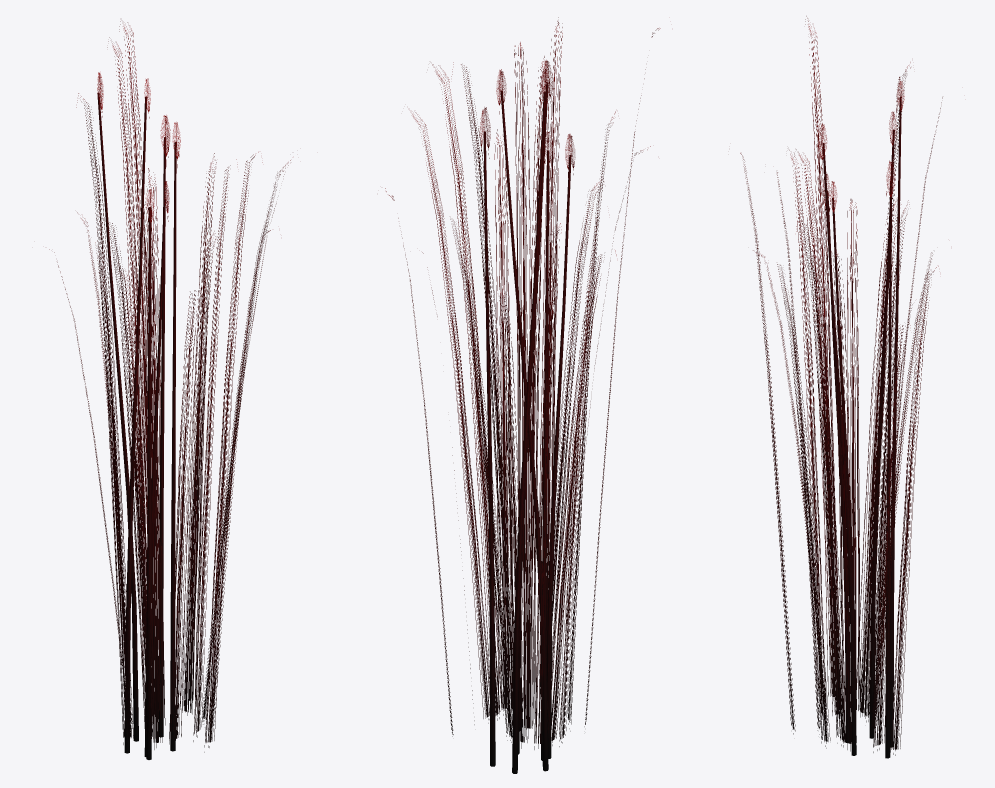
The model's file is plant_swamp_reed_clump_a.glb.
The picture shows the model from 3 angles, left to right: view 1: azimuth 30°, elevation 25°; view 2: azimuth 150°, elevation 25°; view 3: azimuth 270°, elevation 25°; orthographic projection. The views are drawn at different scales.
Visible parts, largest first — view 1: plant_swamp_reed_clump_a; view 2: plant_swamp_reed_clump_a; view 3: plant_swamp_reed_clump_a.
Boxes of the visible parts, x1,y1,x2,y2 form: plant_swamp_reed_clump_a: (49,21,290,759); plant_swamp_reed_clump_a: (385,17,660,773); plant_swamp_reed_clump_a: (740,16,942,758).
Size of the model in its own units: 0.5408 by 1.38 by 0.4797.
Materials: 1 (1 with a texture image).
